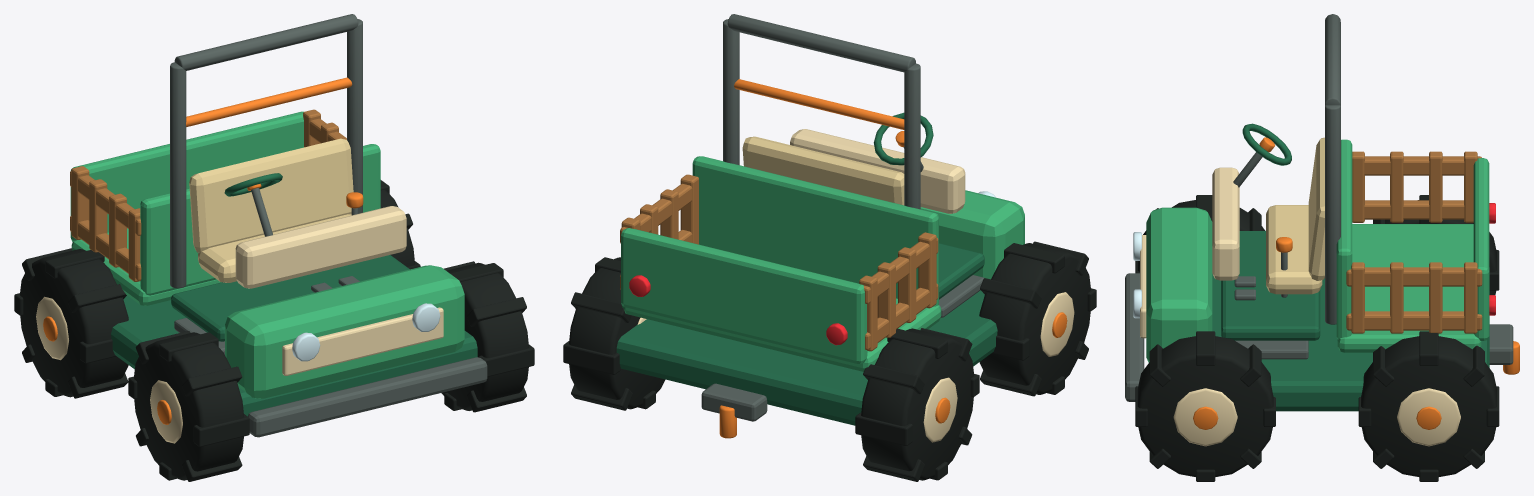
The model's file is FTF_Vehicle_FarmUtility_GreenCream_4m.glb.
3 views of the same model, side by side, from view 1: azimuth 30°, elevation 25°; view 2: azimuth 150°, elevation 25°; view 3: azimuth 270°, elevation 25° (orthographic). The views are drawn at different scales.
Parts seen in each view (by area): view 1: Short_Front_Nose, Bench_Back, Wheel_FL_Tire, Wheel_RL_Tire, Dashboard, Cargo_Tailgate, Front_Bumper, Main_Frame, Cab_Floor, Wheel_FR_Tire, Cargo_Front_Wall, Wheel_FL (+21 smaller); view 2: Cargo_Tailgate, Cargo_Front_Wall, Main_Frame, Wheel_RL_Tire, Wheel_FL_Tire, Wheel_RR_Tire, Bench_Back, Short_Front_Nose, Wheel_RL, Dashboard, Wheel_FL, RollBar_Top (+20 smaller); view 3: Wheel_FR_Tire, Wheel_RR_Tire, Short_Front_Nose, Cargo_Bed, Main_Frame, Cab_Floor, Bench_Seat, Wheel_FR, RollBar_Right, Wheel_RR, Dashboard, Cargo_Front_Wall (+28 smaller).
Boxes of the visible parts, x1,y1,x2,y2 form: Short_Front_Nose: (225,265,464,398); Bench_Back: (189,138,353,252); Wheel_FL_Tire: (134,332,243,480); Wheel_RL_Tire: (20,249,128,397); Dashboard: (235,206,406,288); Cargo_Tailgate: (70,111,303,241); Front_Bumper: (248,357,487,437); Main_Frame: (111,295,477,416); Cab_Floor: (171,255,409,341); Wheel_FR_Tire: (441,262,528,410); Cargo_Front_Wall: (140,144,380,295); Wheel_FL: (128,331,249,481); Cargo_Tailgate: (621,228,867,363); Cargo_Front_Wall: (692,156,938,306); Main_Frame: (616,290,997,425); Wheel_RL_Tire: (861,328,974,480); Wheel_FL_Tire: (979,243,1090,394); Wheel_RR_Tire: (569,257,665,409); Bench_Back: (742,136,904,205); Short_Front_Nose: (920,190,1024,279); Wheel_RL: (855,328,979,481); Dashboard: (790,129,965,213); Wheel_FL: (980,241,1096,396); RollBar_Top: (727,14,915,72); Wheel_FR_Tire: (1137,336,1273,476); Wheel_RR_Tire: (1361,336,1496,476); Short_Front_Nose: (1146,207,1212,362); Cargo_Bed: (1337,224,1481,352); Main_Frame: (1212,267,1489,411); Cab_Floor: (1221,231,1320,340); Bench_Seat: (1266,205,1322,294); Wheel_FR: (1135,331,1275,481); RollBar_Right: (1325,105,1340,324); Wheel_RR: (1358,331,1499,481); Dashboard: (1212,167,1239,280); Cargo_Front_Wall: (1336,139,1352,339).
Bounding box in the file's own units: 3.93 × 3.94 × 4.07.
